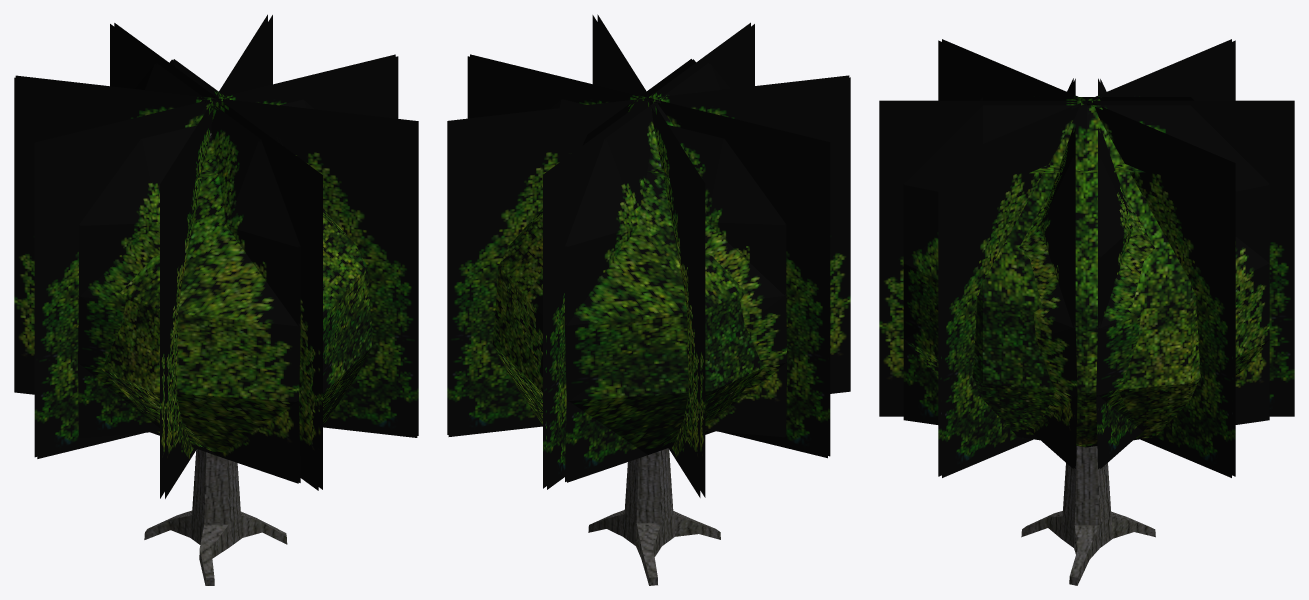
File: tree01.gltf
3 renders of one model, left to right at view 1: azimuth 30°, elevation 25°; view 2: azimuth 150°, elevation 25°; view 3: azimuth 270°, elevation 25°, orthographic.
Parts seen in each view (by area): view 1: tree01_top, tree01; view 2: tree01_top, tree01; view 3: tree01_top, tree01.
Part boxes in pixels (box(x1,y1,x2,y2)): tree01_top: box(14, 14, 418, 498); tree01: box(144, 449, 287, 585); tree01_top: box(447, 14, 850, 497); tree01: box(588, 448, 720, 585); tree01_top: box(879, 39, 1294, 477); tree01: box(1021, 446, 1155, 585).
Size of the model in its own units: 3.36 by 4.04 by 3.36.
Materials: 1 (1 with a texture image).
